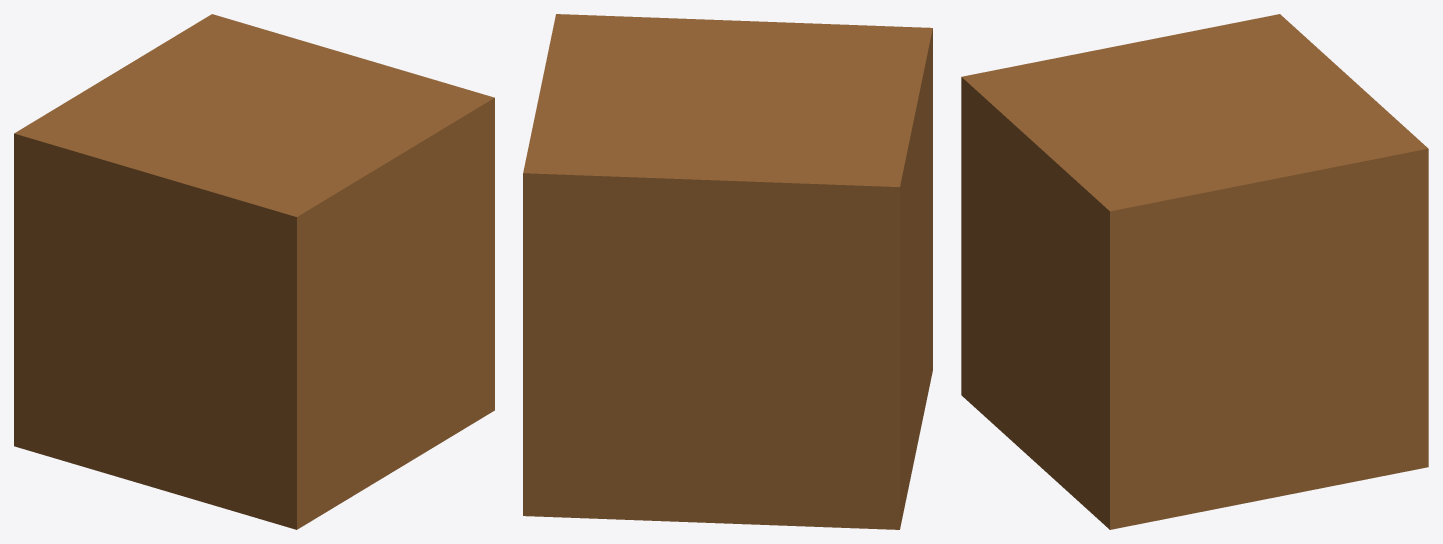
File: studio.fbx
The picture shows the model from 3 angles, left to right: view 1: azimuth 30°, elevation 25°; view 2: azimuth 150°, elevation 25°; view 3: azimuth 270°, elevation 25°; orthographic projection. The views are drawn at different scales.
Parts seen in each view (by area): view 1: Crate; view 2: Crate; view 3: Crate.
Part boxes in pixels (box(x1,y1,x2,y2)): Crate: box(14, 14, 494, 529); Crate: box(523, 14, 932, 529); Crate: box(961, 14, 1428, 529).
Size of what is drawn, in the model's own units: 1.33 by 1 by 1.33.
